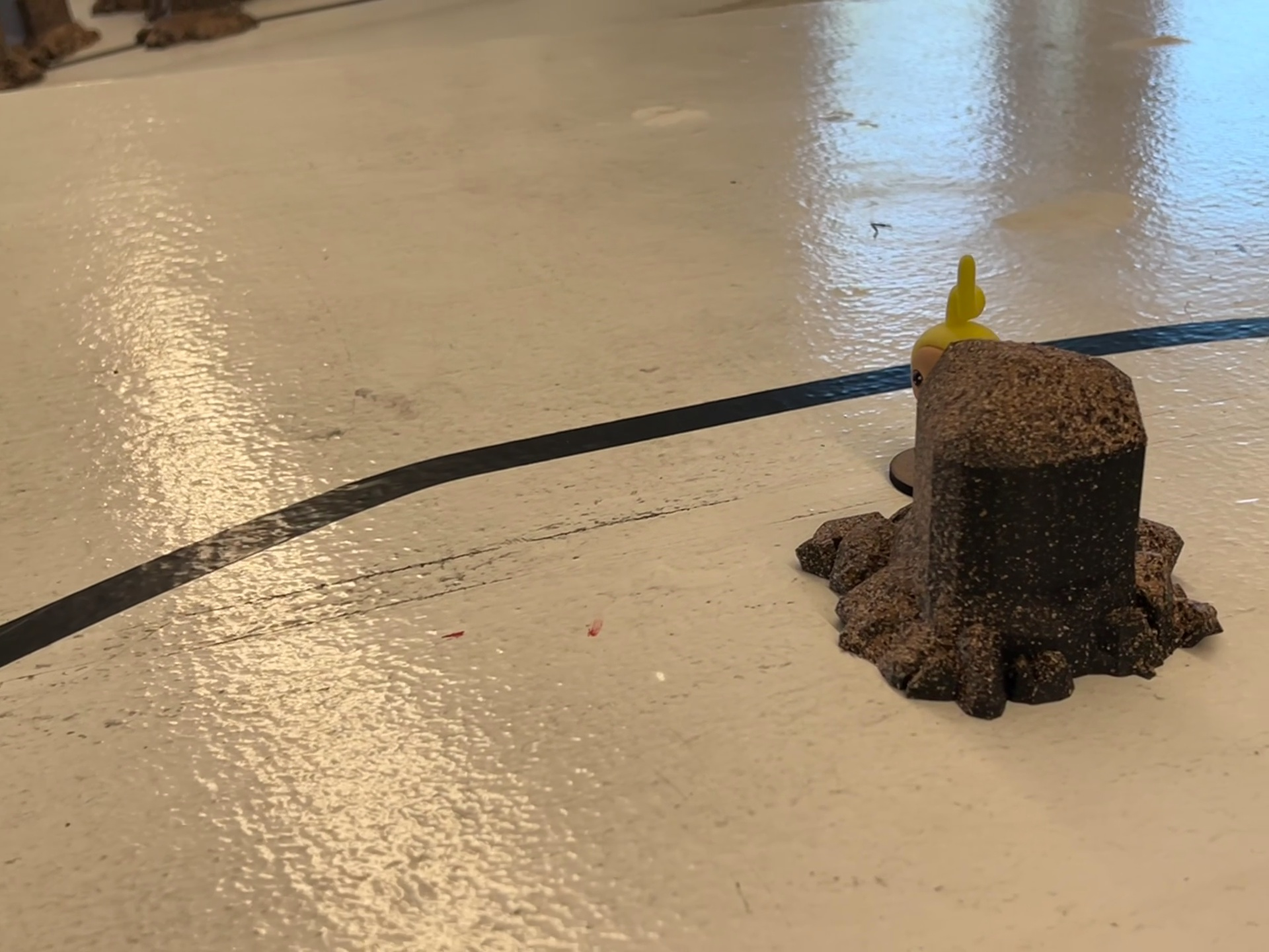teletubby: (909, 255, 999, 395)
